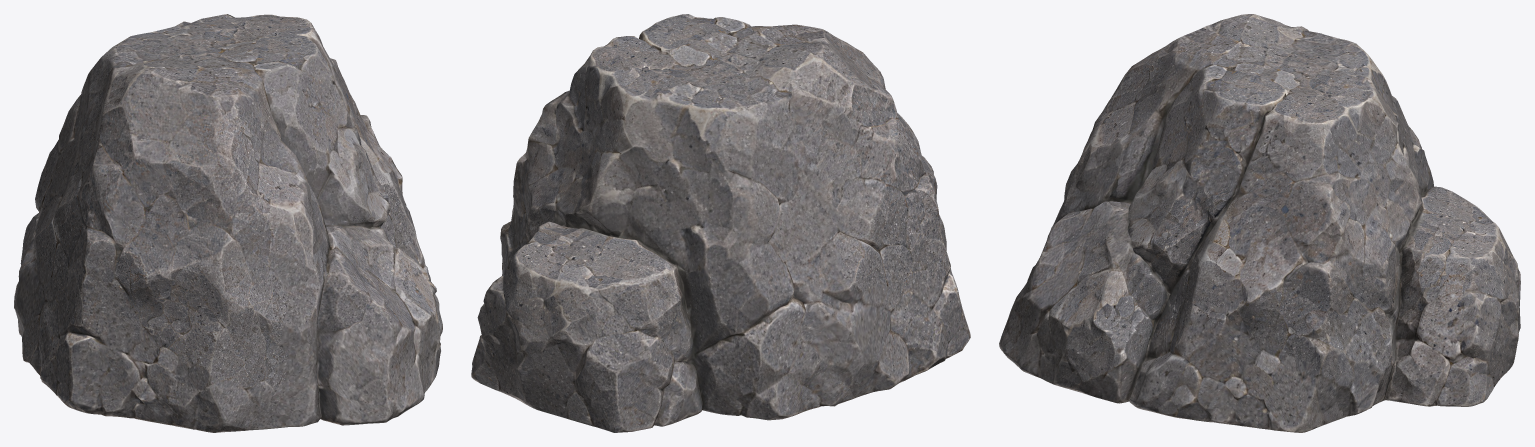
Rendered from display.glb.
3 renders of one model, left to right at view 1: azimuth 30°, elevation 25°; view 2: azimuth 150°, elevation 25°; view 3: azimuth 270°, elevation 25°, orthographic. The views are drawn at different scales.
Visible parts, largest first — view 1: tripo_node_5c73d5ff-0ffb-40eb-bd00-c3beaba5a3c1; view 2: tripo_node_5c73d5ff-0ffb-40eb-bd00-c3beaba5a3c1; view 3: tripo_node_5c73d5ff-0ffb-40eb-bd00-c3beaba5a3c1.
Part boxes in pixels (x1,y1,x2,y2): tripo_node_5c73d5ff-0ffb-40eb-bd00-c3beaba5a3c1: (14,14,442,432); tripo_node_5c73d5ff-0ffb-40eb-bd00-c3beaba5a3c1: (471,14,970,432); tripo_node_5c73d5ff-0ffb-40eb-bd00-c3beaba5a3c1: (999,14,1520,432).
Size of the model in its own units: 0.8718 by 0.5995 by 1.
Materials: 1 (1 with a texture image).
